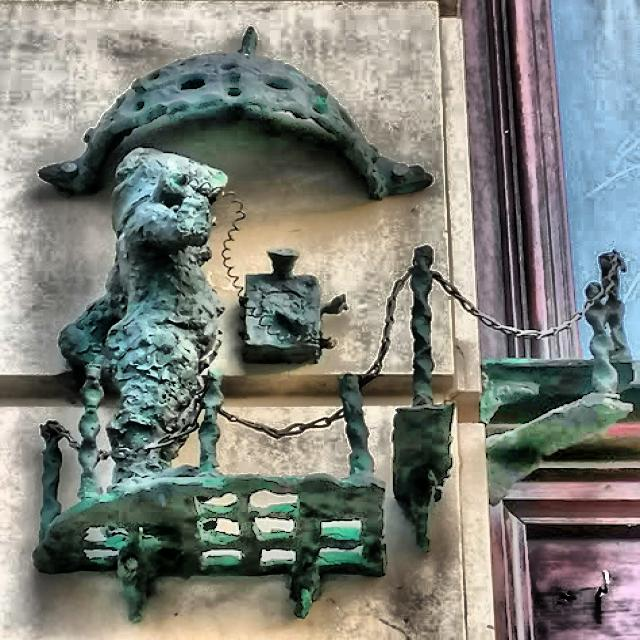Dryndek: (35, 29, 432, 621)
